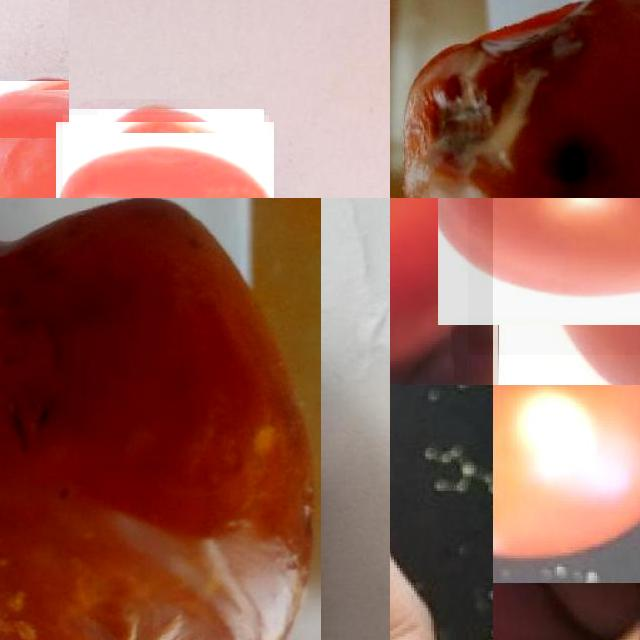Fresh Tomato: (493, 385, 640, 582), (468, 198, 640, 355)
Rotten Tomato: (0, 198, 321, 640), (390, 0, 640, 198), (62, 115, 269, 198), (0, 109, 97, 198)
